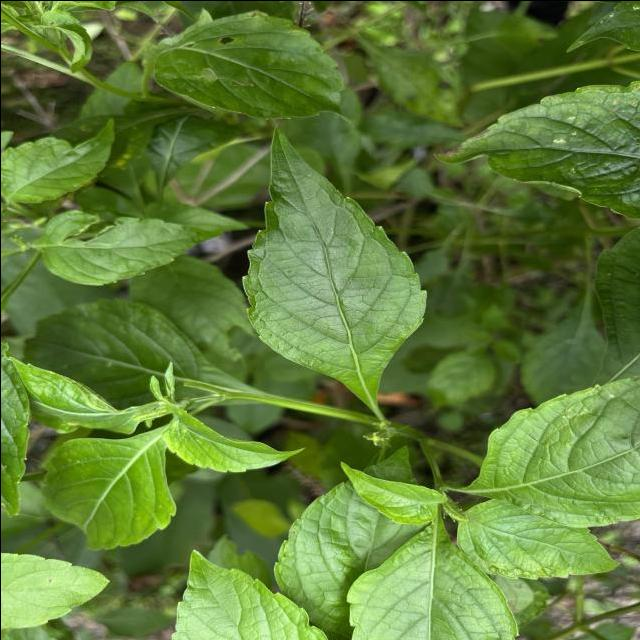Ocimum gratissimum: (234, 117, 431, 416), (428, 76, 640, 225), (459, 372, 640, 533), (337, 510, 525, 640), (30, 416, 191, 558), (443, 497, 627, 582)
